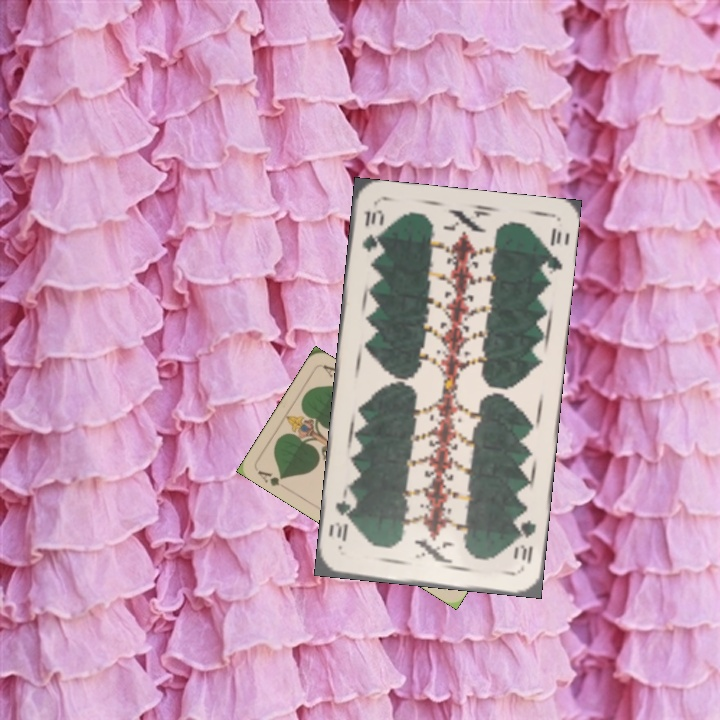G10: (509, 510, 539, 567), (358, 205, 385, 255)
GA: (253, 466, 288, 489)
